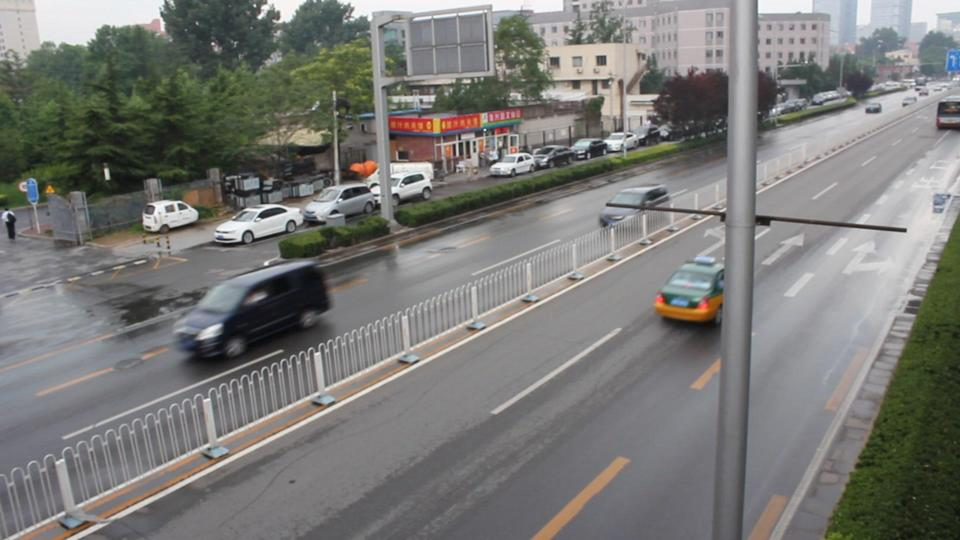bus: (935, 94, 960, 130)
car: (171, 258, 333, 362), (654, 255, 725, 325), (212, 204, 304, 244), (300, 183, 380, 224), (599, 183, 671, 227), (365, 161, 435, 205), (142, 199, 200, 233), (489, 153, 539, 177), (533, 146, 576, 170), (570, 138, 610, 160), (604, 133, 638, 152), (811, 90, 844, 105), (865, 102, 883, 114), (902, 95, 917, 106)
person: (1, 207, 19, 241)
